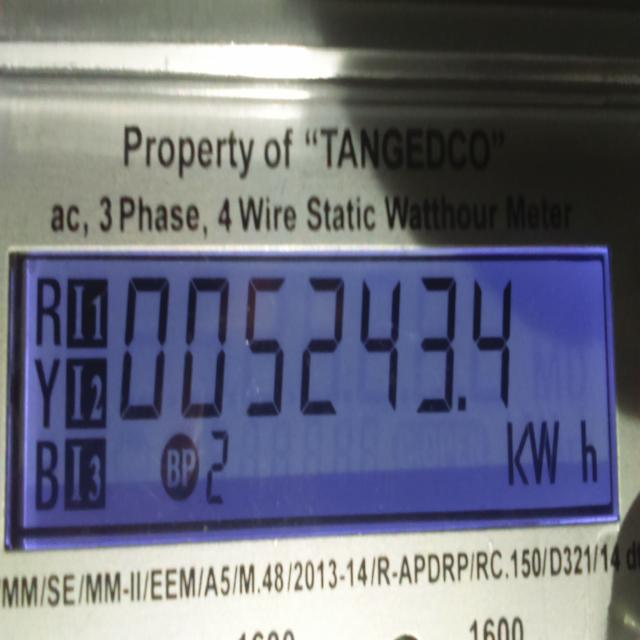.: (456, 395, 469, 419)
0: (117, 271, 170, 428), (179, 269, 230, 426)
2: (298, 272, 348, 422), (204, 429, 236, 509)
3: (416, 271, 460, 418)
4: (468, 272, 523, 416), (354, 272, 408, 411)
5: (242, 270, 286, 427)
